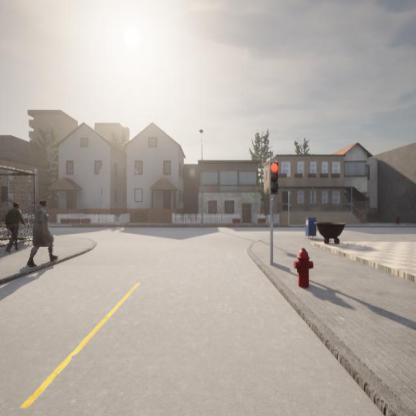person: (28, 198, 56, 268), (4, 201, 26, 253)
traffic_light_red: (269, 162, 278, 193)
